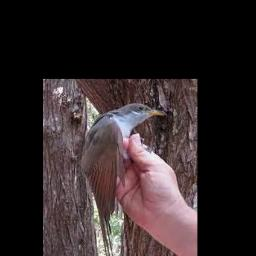Cuckoo: (81, 103, 166, 256)
